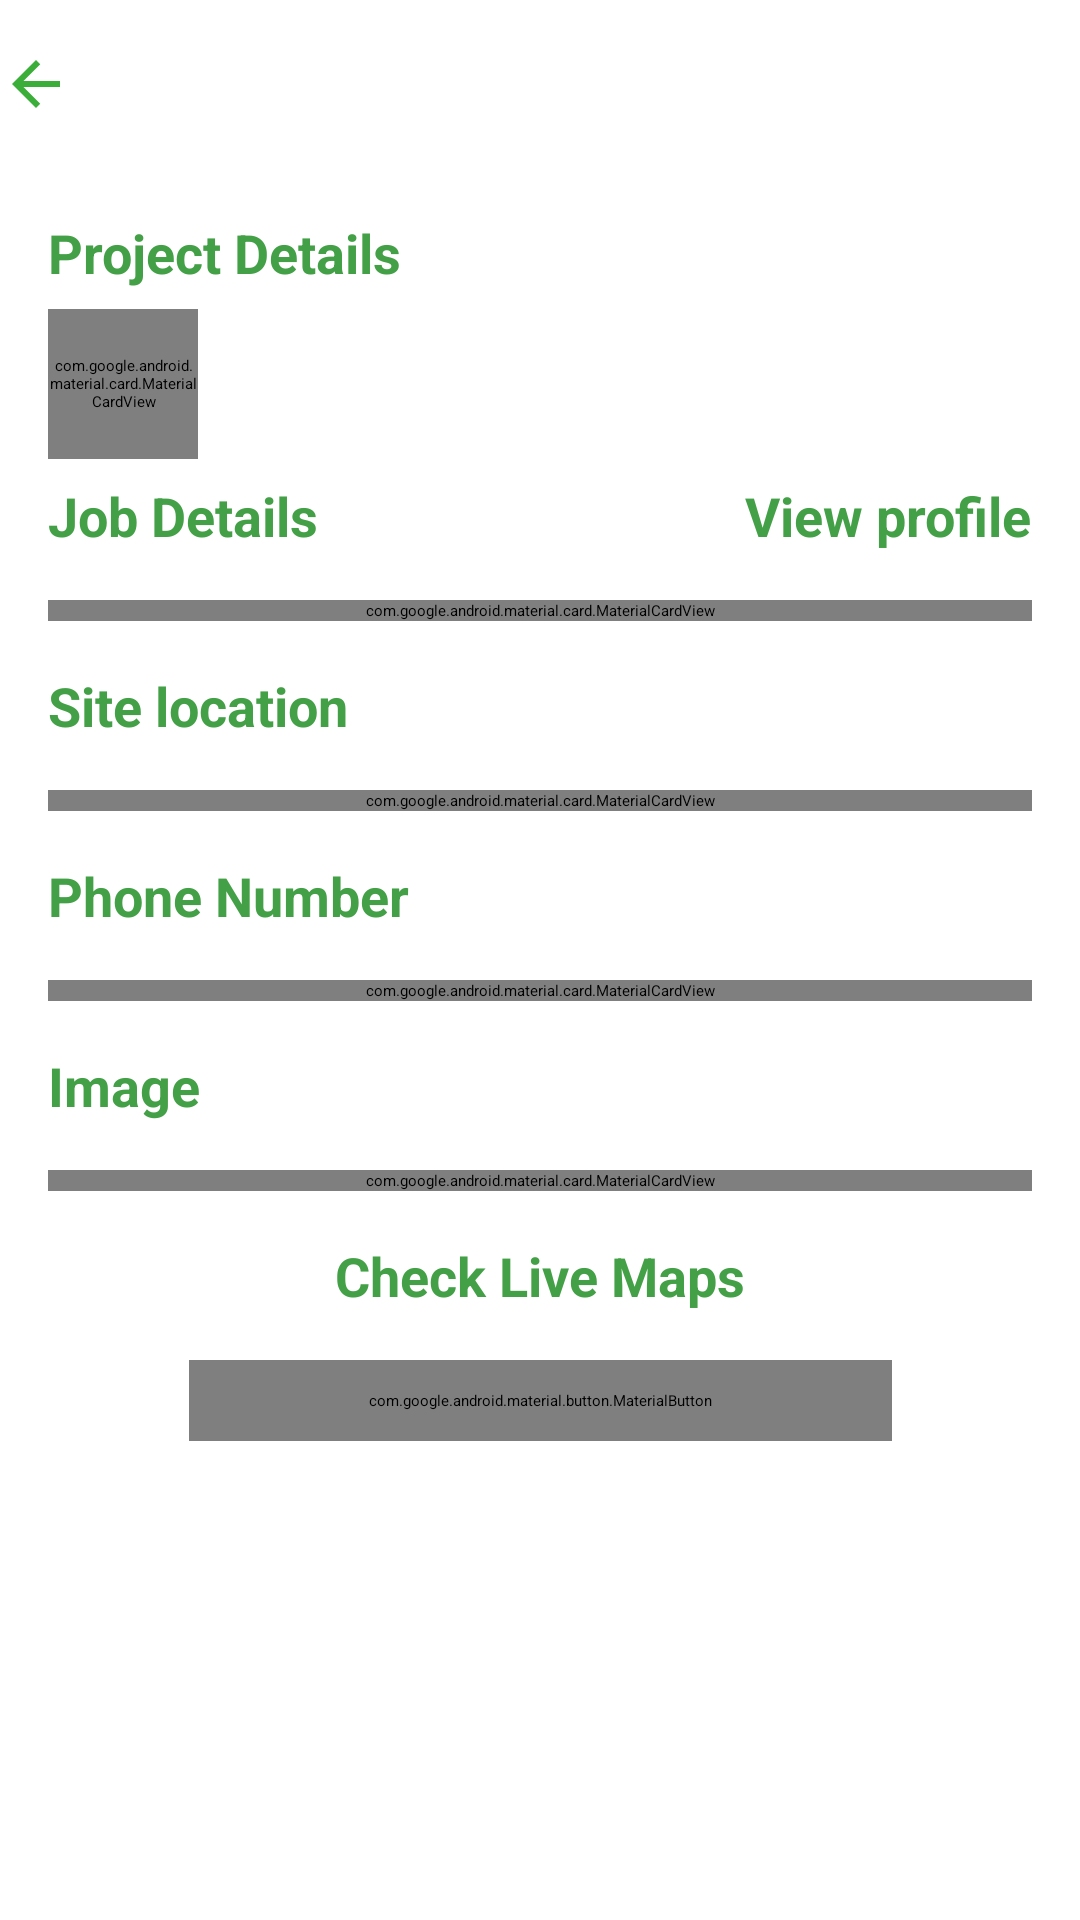

Icons on this 1080×1920 Android screen, each with its box as [x1, y1, x2, y2]:
back arrow button: [12, 60, 60, 108]
